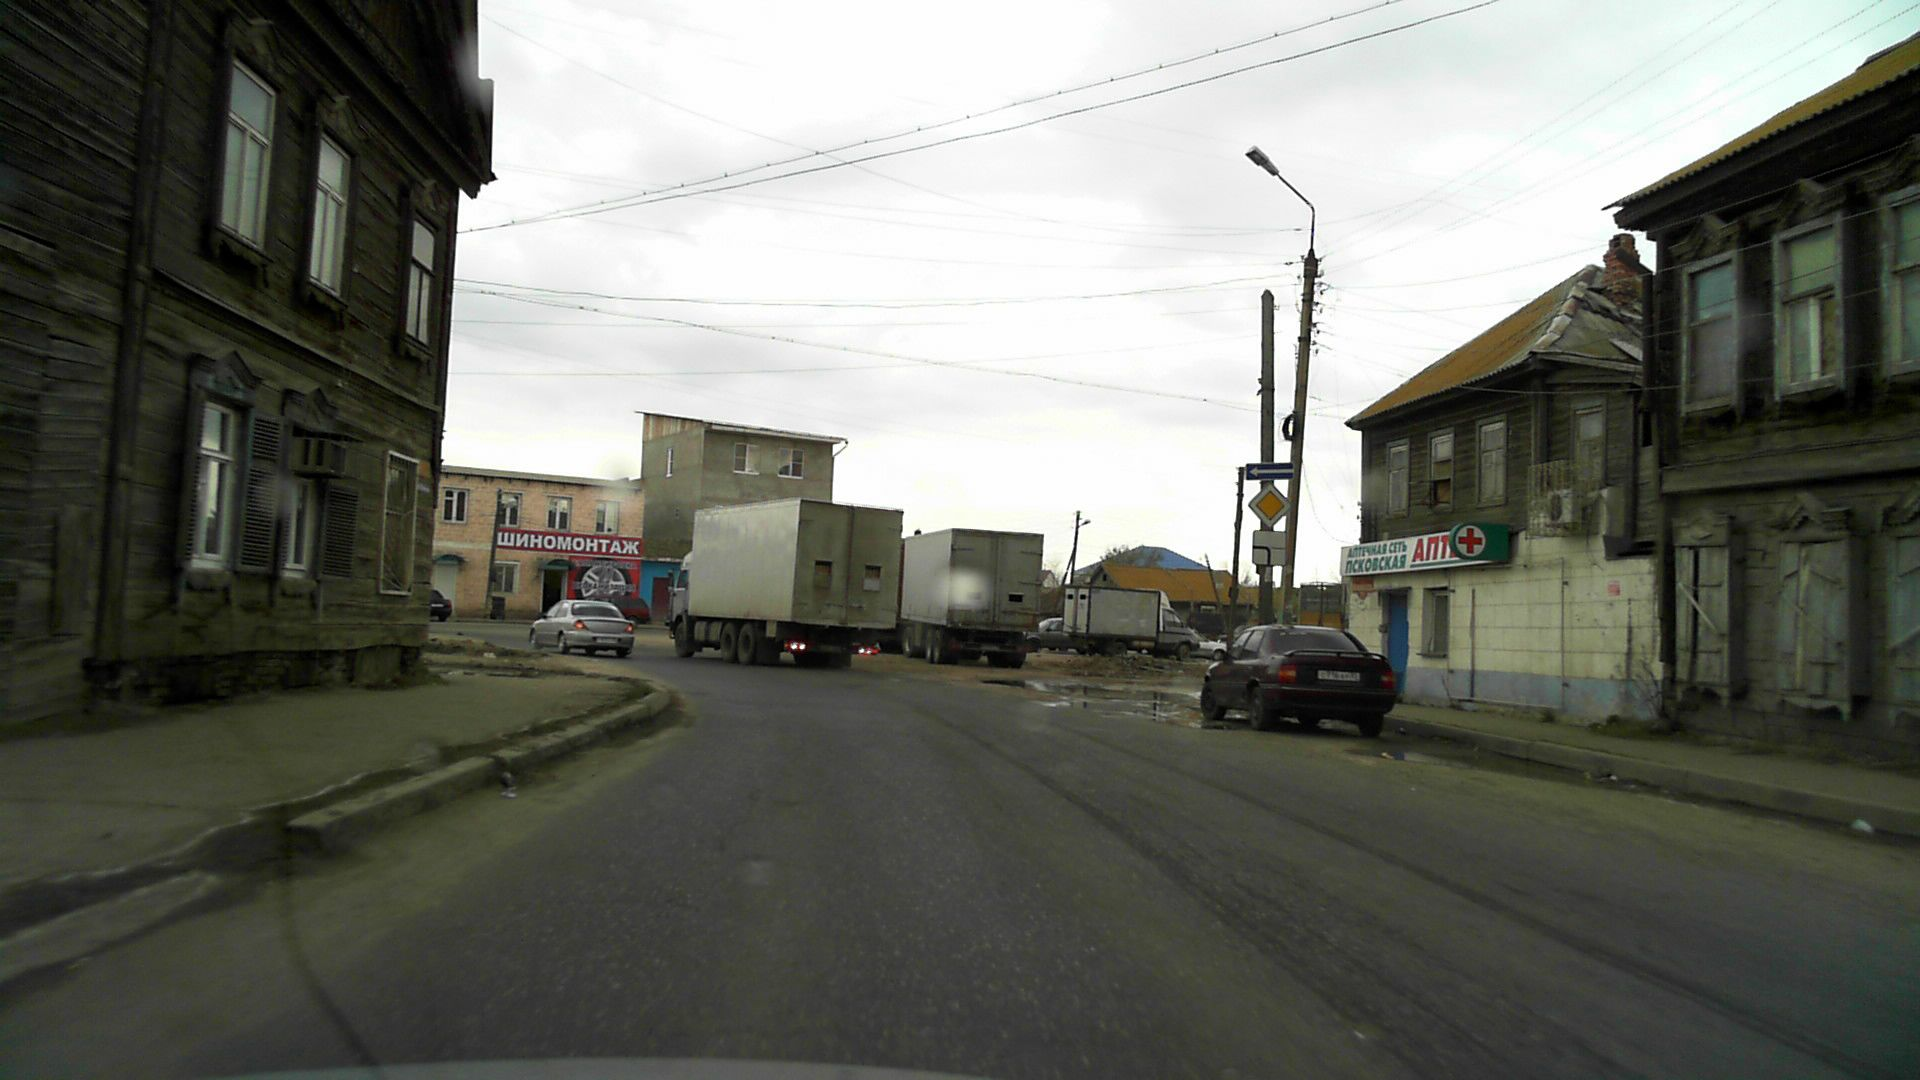One-Way Traffic: (1246, 463, 1294, 480)
